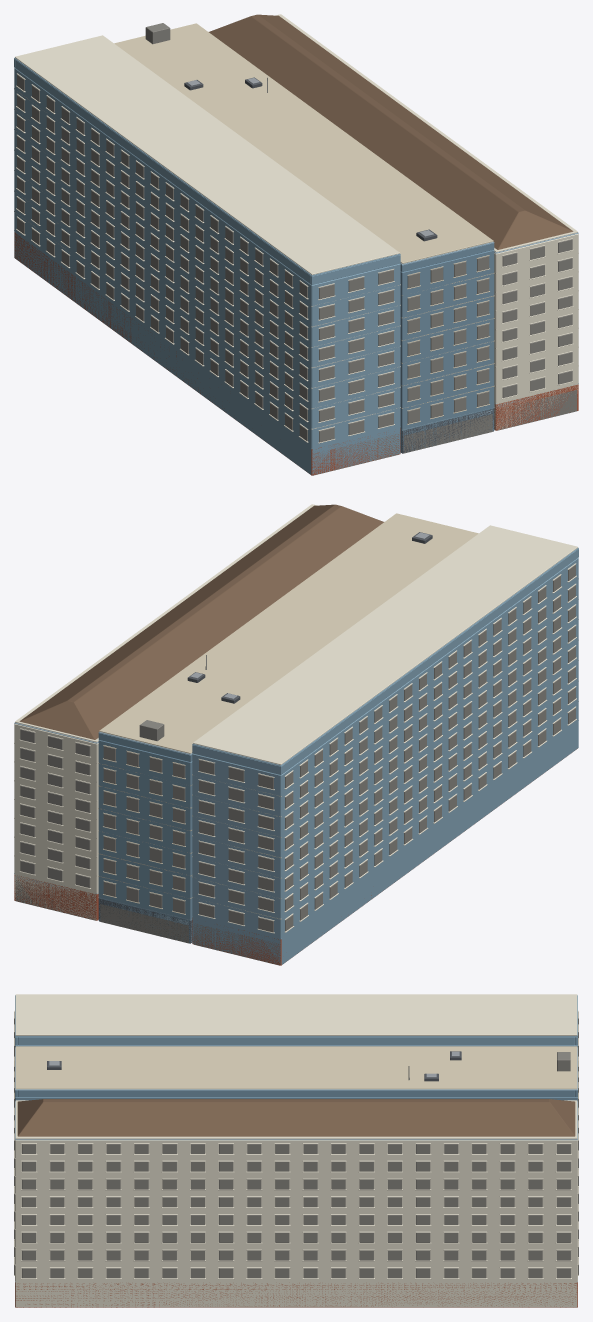
File: VG_Bld_Commercial_14.fbx
3 views of the same model, one above another, from view 1: azimuth 30°, elevation 25°; view 2: azimuth 150°, elevation 25°; view 3: azimuth 270°, elevation 25° (orthographic). The views are drawn at different scales.
Visible parts, largest first — view 1: VG_Bld_Commercial_14_Body; view 2: VG_Bld_Commercial_14_Body; view 3: VG_Bld_Commercial_14_Body.
Boxes of the visible parts, x1,y1,x2,y2 form: VG_Bld_Commercial_14_Body: (14, 14, 578, 475); VG_Bld_Commercial_14_Body: (14, 504, 578, 965); VG_Bld_Commercial_14_Body: (14, 994, 578, 1307).
Bounding box in the file's own units: 48 × 34.93 × 92.
